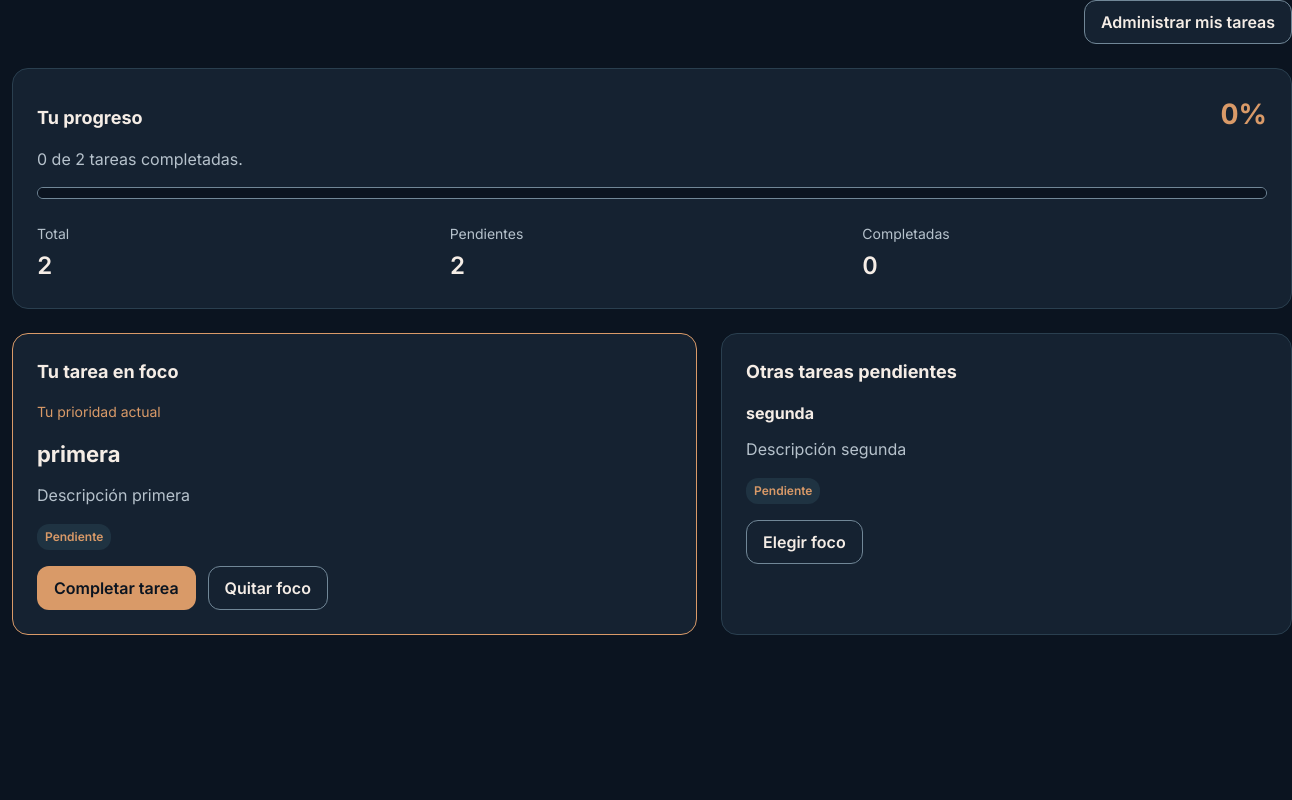
it: no pierde el foco cuando falla clear
Click the button "Quitar foco" at (268, 588), box 208,566 -> 328,610
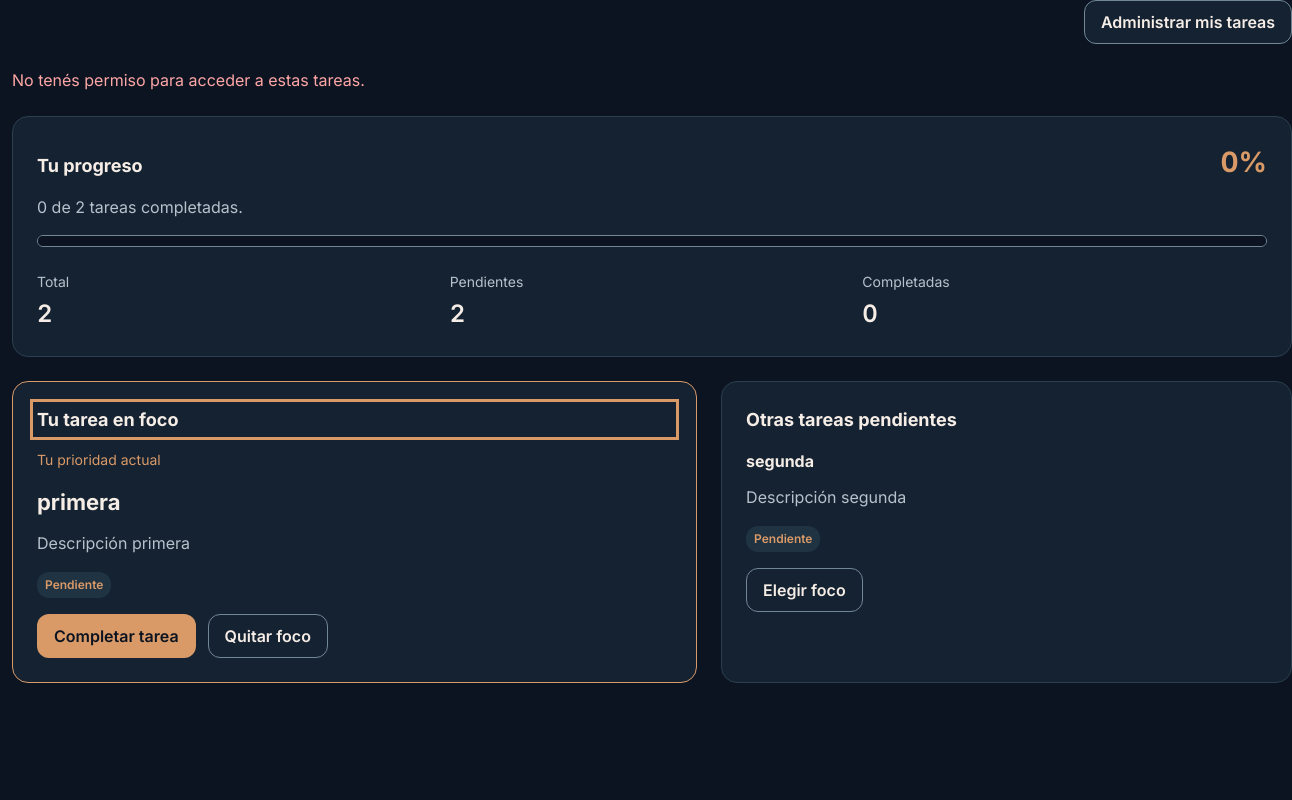
Expected: the heading "primera" is shown, 37,489 -> 120,515
Result: the message shows "permiso" at 12,70 -> 365,90
